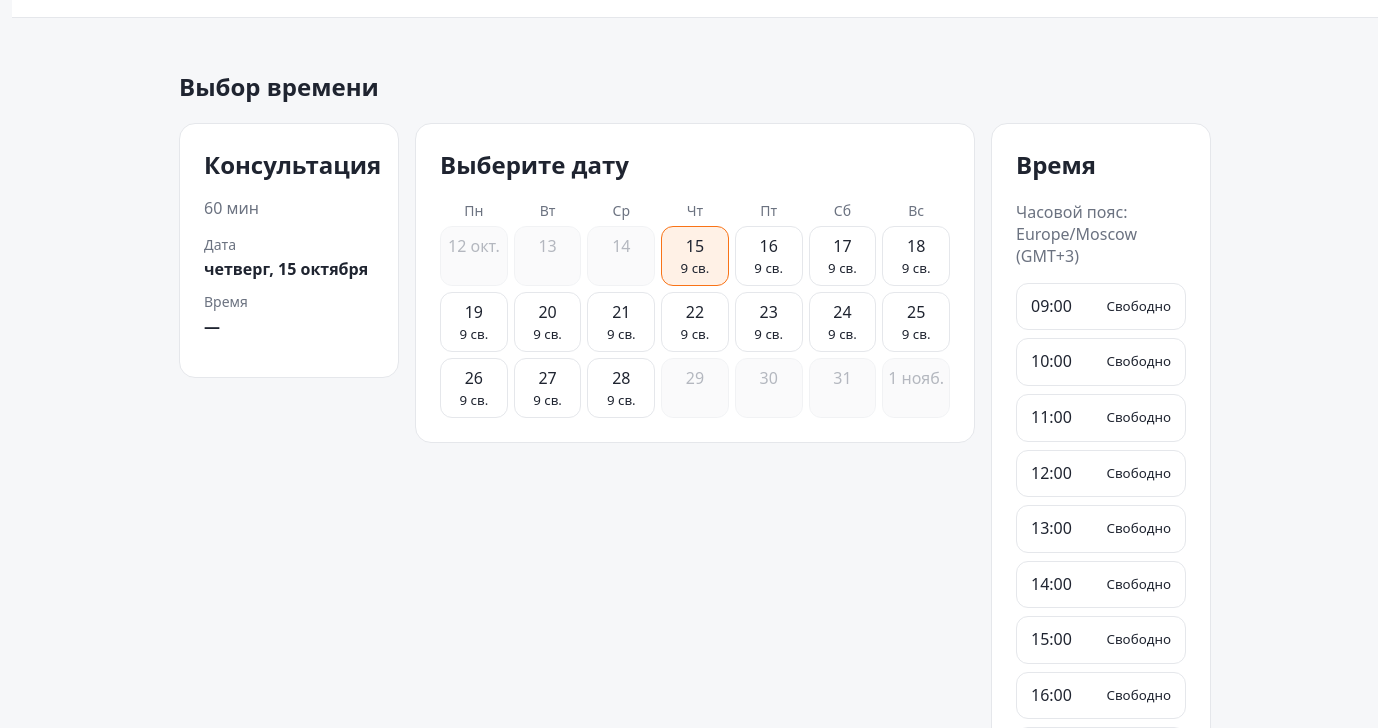
Scenario: slot picker › resets the chosen slot when another date is picked
Expected: the heading "Выбор времени" is shown, top-left (179, 70), bottom-right (379, 103)
Click the button "12:00 Свободно" at (1101, 473), box top-left (1016, 450), bottom-right (1186, 497)
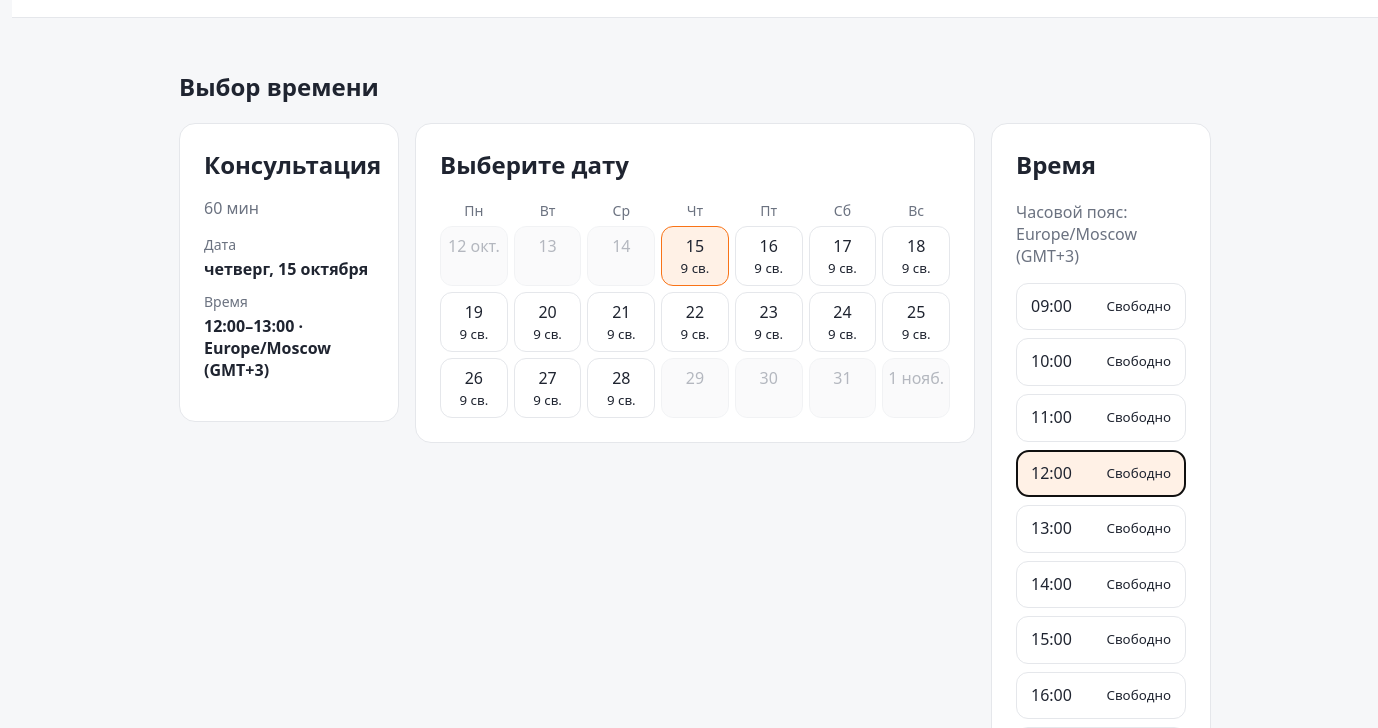
Click the button with aria-label "20 октября, 9 св." at (548, 322), box top-left (514, 292), bottom-right (581, 352)
(page scrolled)
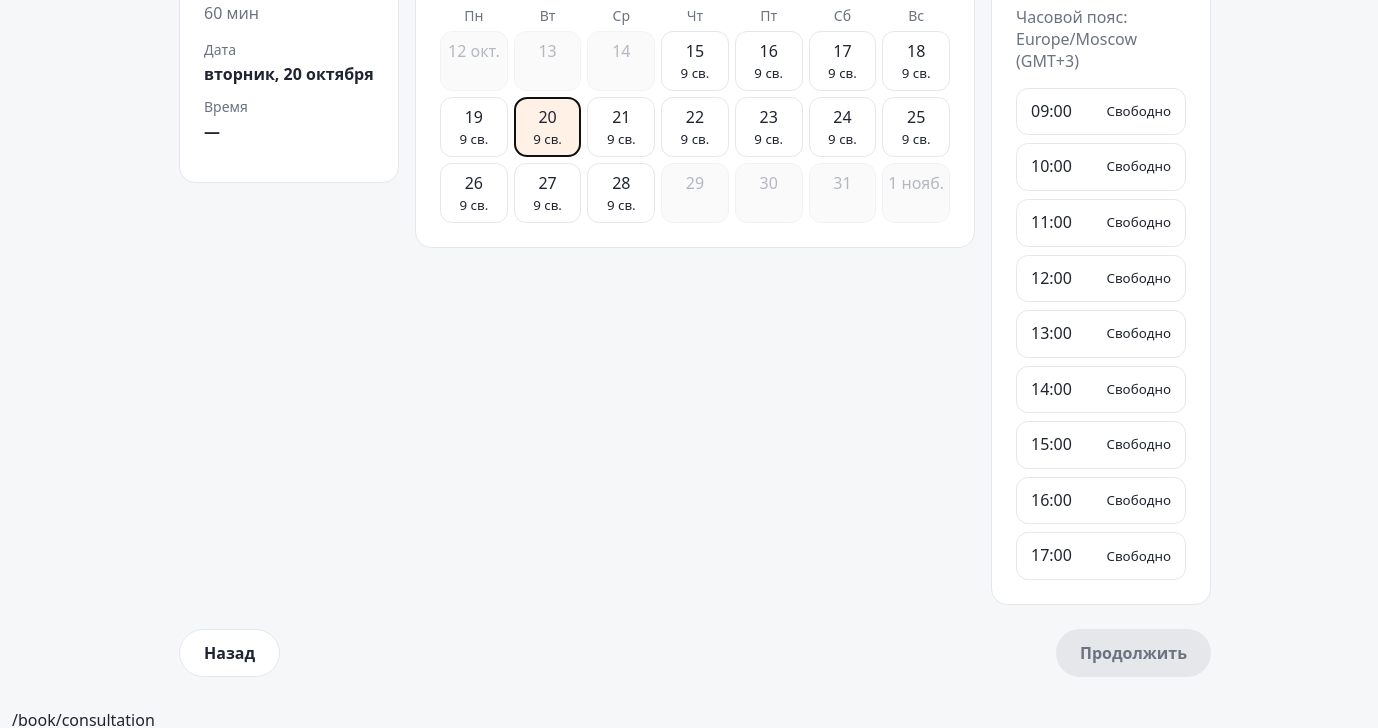
Expected: the text "вторник, 20 октября" is shown, top-left (204, 63), bottom-right (374, 85)
Expected: the button "Продолжить" is disabled, top-left (1056, 629), bottom-right (1211, 677)
